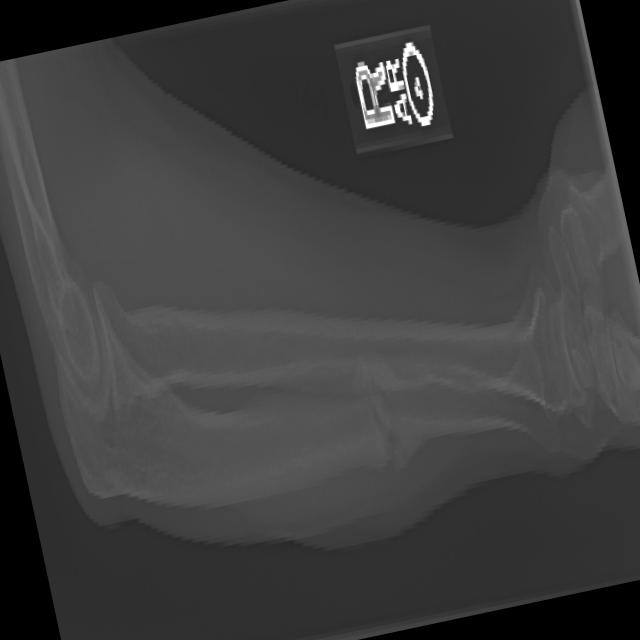forearm fracture: (333, 366, 437, 500)
